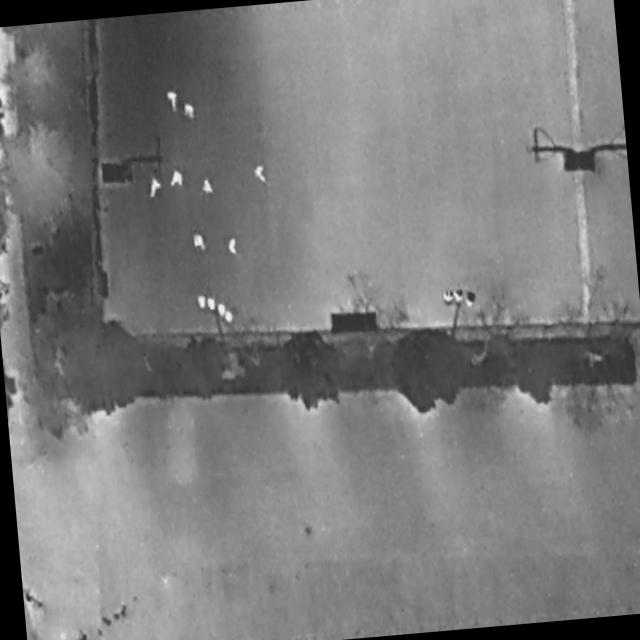person: (145, 176, 165, 203), (168, 169, 185, 190), (167, 89, 180, 114), (182, 101, 197, 121), (254, 165, 269, 182), (202, 179, 215, 196), (192, 234, 205, 251), (228, 238, 239, 255)
